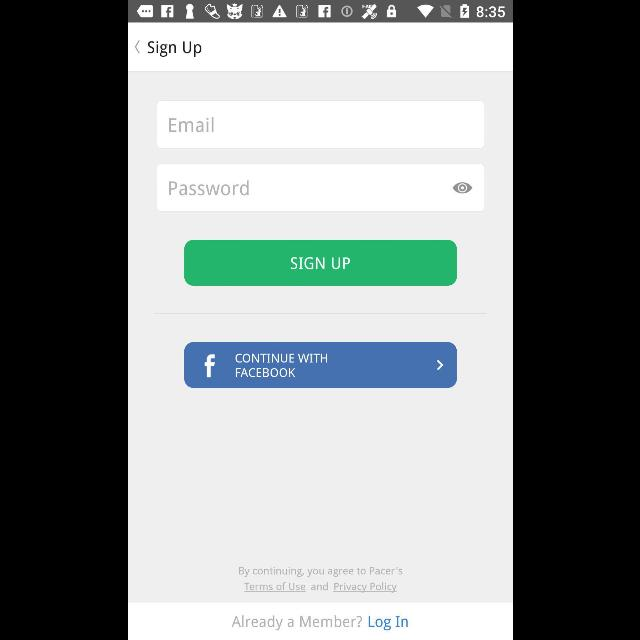icon: (452, 182, 472, 194), (134, 40, 140, 54)
input: (156, 164, 484, 212), (156, 101, 484, 149)
text: (238, 566, 402, 594), (168, 180, 248, 196), (147, 41, 201, 57), (169, 118, 213, 132)
textbutton: (128, 602, 512, 640), (184, 342, 456, 388), (184, 240, 456, 286)
toolbar: (128, 23, 512, 71)
uppertaskbar: (128, 1, 512, 23)
